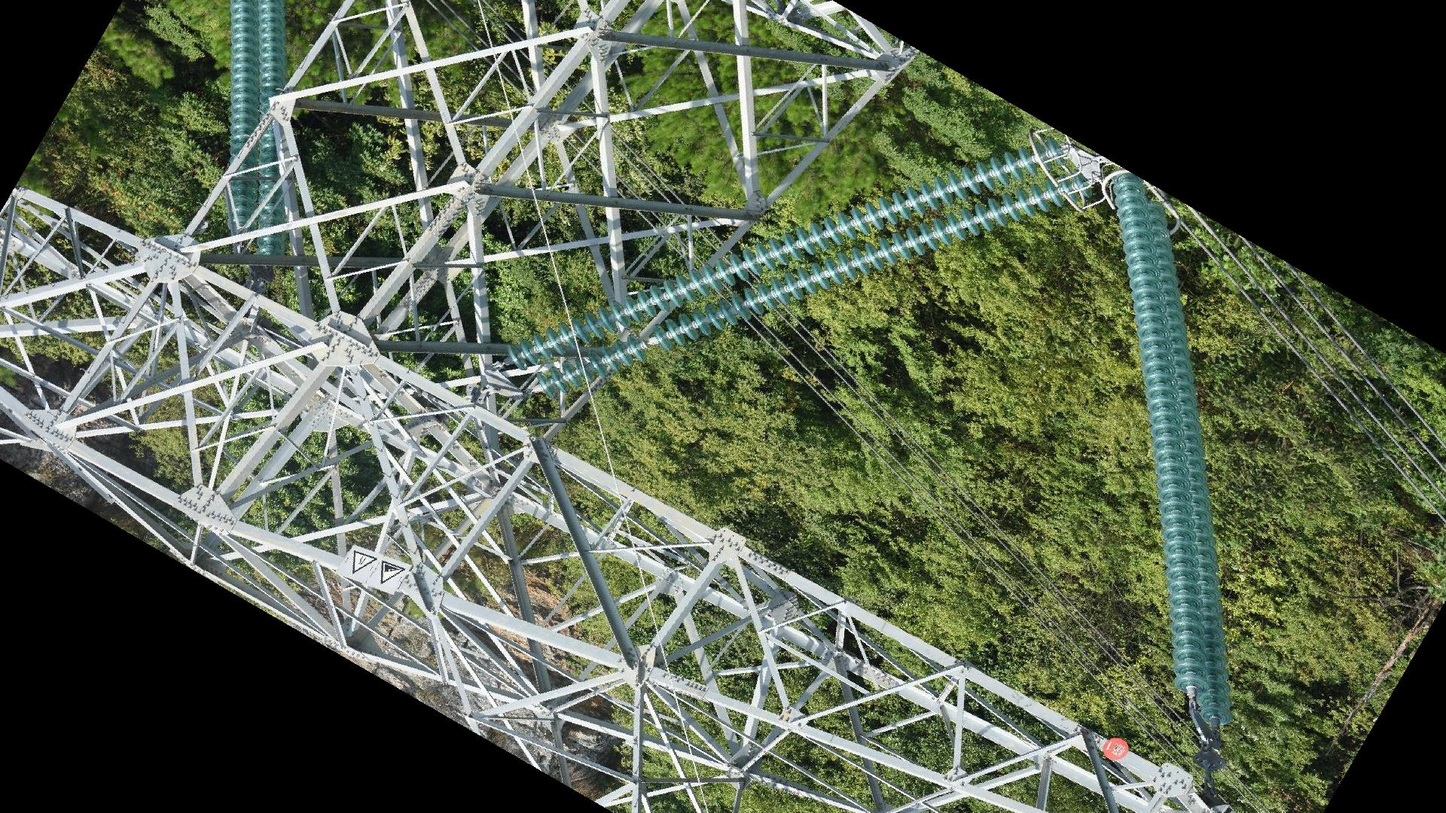insulator: (502, 133, 1090, 403), (1106, 166, 1236, 732), (220, 1, 291, 262)
insulator_stringdrop: (624, 321, 672, 366)
